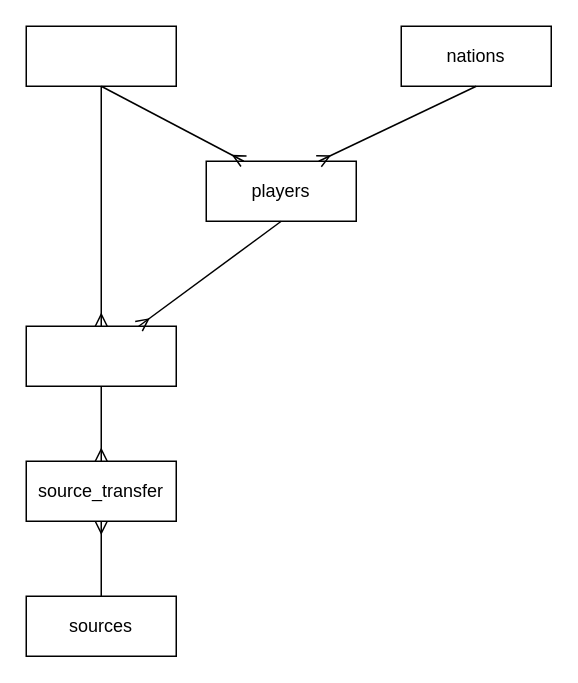
Some shapes in this 578 by 683 pixel diagram are drawn without their labels. Each missing label, with the centre of its shape:
"teams" belongs at (x=100, y=55).
"transfers" belongs at (x=100, y=355).
